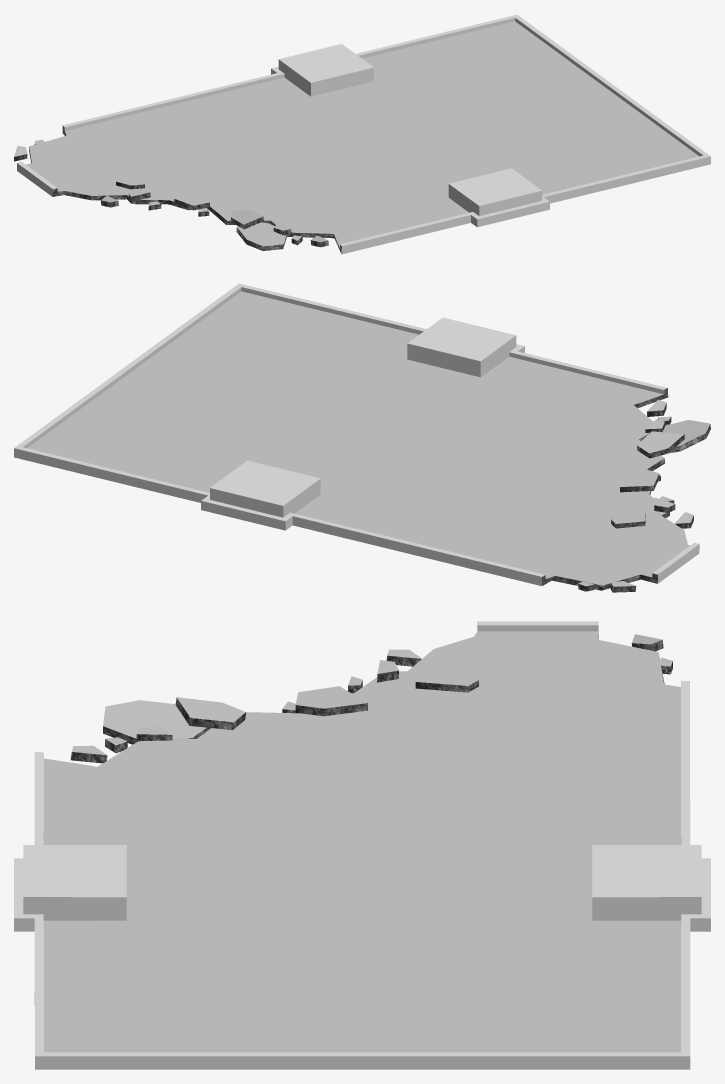
The model's file is Ruin3G_LOD1.fbx.
3 views of the same model, one above another, from view 1: azimuth 30°, elevation 25°; view 2: azimuth 150°, elevation 25°; view 3: azimuth 270°, elevation 25° (orthographic). The views are drawn at different scales.
Parts seen in each view (by area): view 1: polySurface1942; view 2: polySurface1942; view 3: polySurface1942.
Boxes of the visible parts, left/top/right/bottom form: polySurface1942: left=14, top=14, right=710, bottom=254; polySurface1942: left=14, top=283, right=710, bottom=592; polySurface1942: left=14, top=621, right=710, bottom=1069.
Size of the model in its own units: 33.1 by 1.2 by 22.41.
